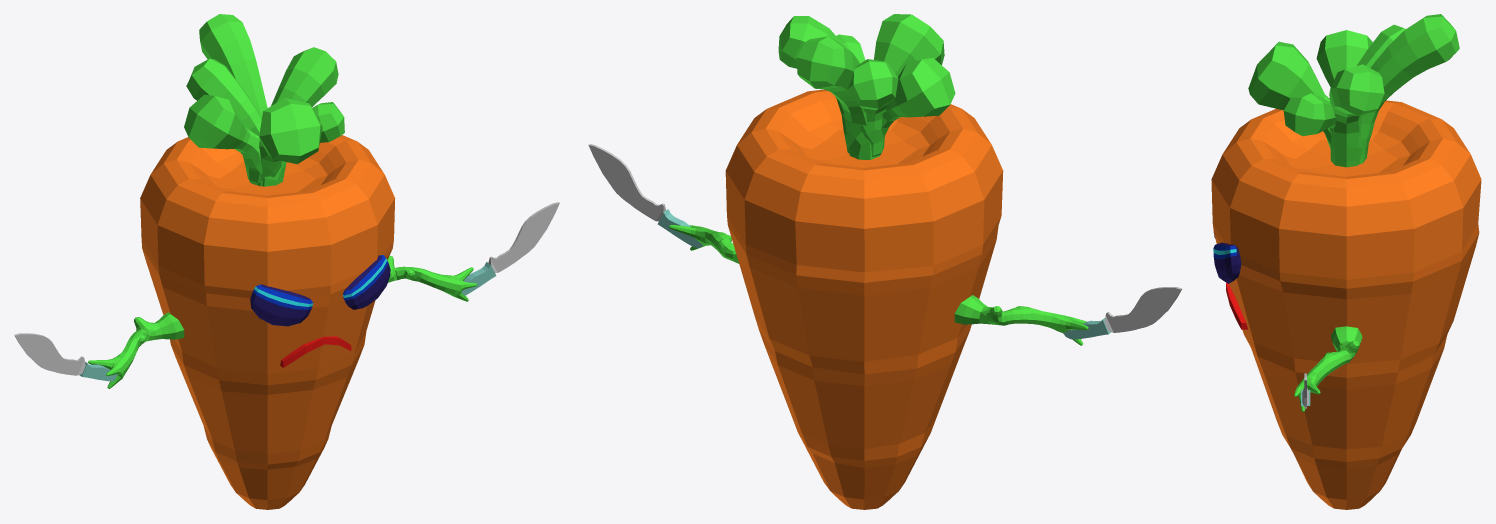
File: Carrot.fbx
3 renders of one model, left to right at view 1: azimuth 30°, elevation 25°; view 2: azimuth 150°, elevation 25°; view 3: azimuth 270°, elevation 25°, orthographic. The views are drawn at different scales.
Parts seen in each view (by area): view 1: Body_Carrot, Root_Carrot, knife, Hand_Carrot, Eye_Carrot, Mouth_Carrot; view 2: Body_Carrot, Root_Carrot, knife, Hand_Carrot; view 3: Body_Carrot, Root_Carrot, Hand_Carrot, Eye_Carrot, Mouth_Carrot.
Boxes of the visible parts, box(x1,y1,x2,y2) form: Body_Carrot: box(140, 135, 395, 509); Root_Carrot: box(184, 14, 344, 186); knife: box(14, 202, 559, 381); Hand_Carrot: box(88, 255, 477, 388); Eye_Carrot: box(250, 255, 390, 326); Mouth_Carrot: box(280, 336, 351, 367); Body_Carrot: box(725, 89, 1003, 509); Root_Carrot: box(778, 14, 955, 159); knife: box(588, 144, 1181, 339); Hand_Carrot: box(669, 225, 1088, 345); Body_Carrot: box(1211, 98, 1481, 509); Root_Carrot: box(1248, 14, 1459, 167); Hand_Carrot: box(1294, 326, 1362, 411); Eye_Carrot: box(1213, 232, 1241, 283); Mouth_Carrot: box(1226, 282, 1247, 329).
Bounding box in the file's own units: 366 × 295 × 148.
